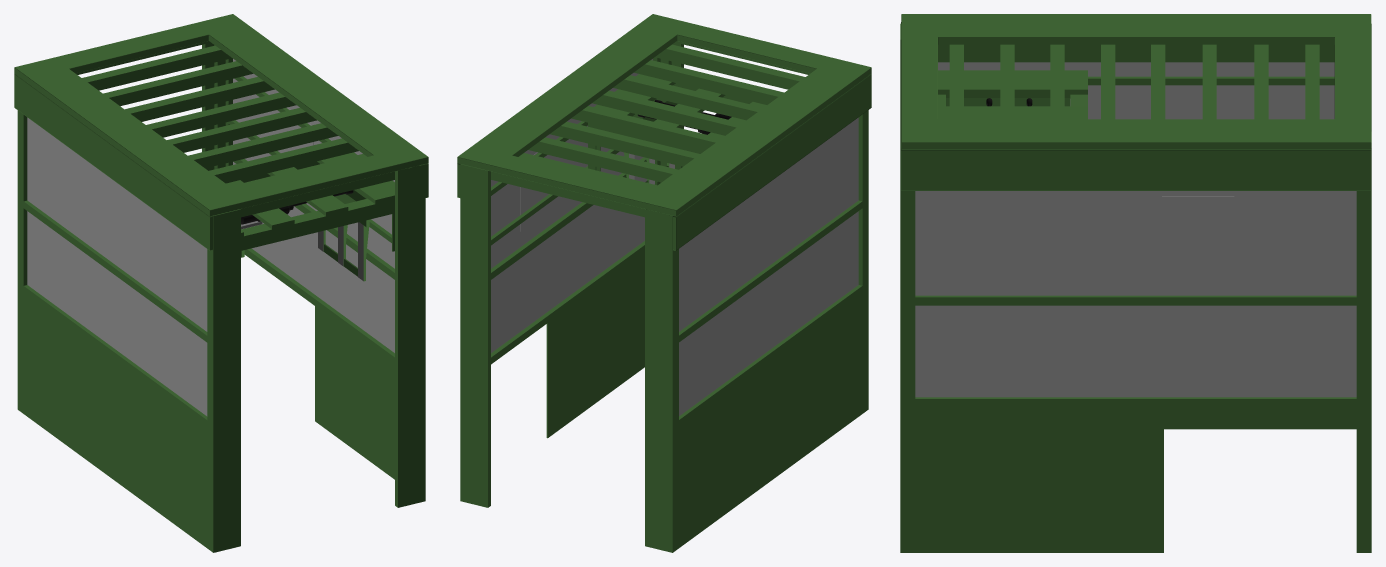
The model's file is JBJ.FBX.
3 views of the same model, side by side, from view 1: azimuth 30°, elevation 25°; view 2: azimuth 150°, elevation 25°; view 3: azimuth 270°, elevation 25° (orthographic). The views are drawn at different scales.
Visible parts, largest first — view 1: JBJ; view 2: JBJ; view 3: JBJ.
Boxes of the visible parts, box(x1,y1,x2,y2) form: JBJ: box(14, 14, 428, 552); JBJ: box(457, 14, 871, 552); JBJ: box(900, 14, 1371, 552).
Size of the model in its own units: 0.323 by 0.484 by 0.5008.
